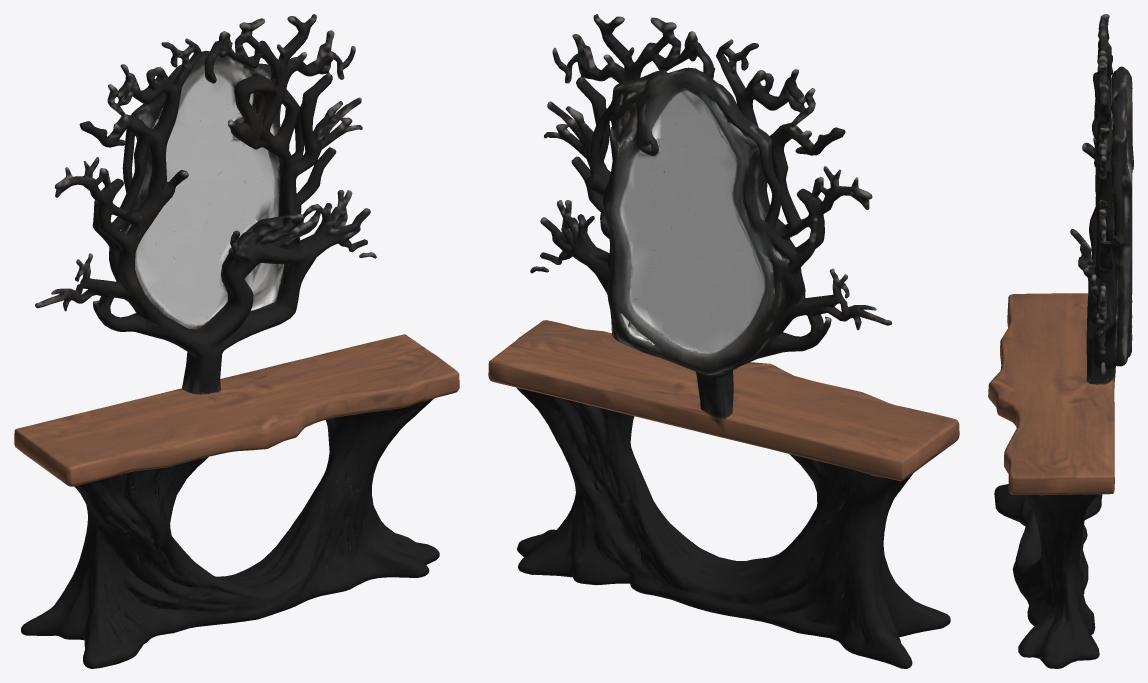
Rendered from root-wood-vanity.glb.
3 views of the same model, side by side, from view 1: azimuth 30°, elevation 25°; view 2: azimuth 150°, elevation 25°; view 3: azimuth 270°, elevation 25° (orthographic). The views are drawn at different scales.
Parts seen in each view (by area): view 1: world; view 2: world; view 3: world.
Part boxes in pixels (left/top/right/bottom): world: left=14, top=14, right=459, bottom=668; world: left=488, top=14, right=959, bottom=668; world: left=988, top=14, right=1133, bottom=668.
Size of the model in its own units: 0.7423 by 1 by 0.2477.
Materials: 1 (1 with a texture image).
